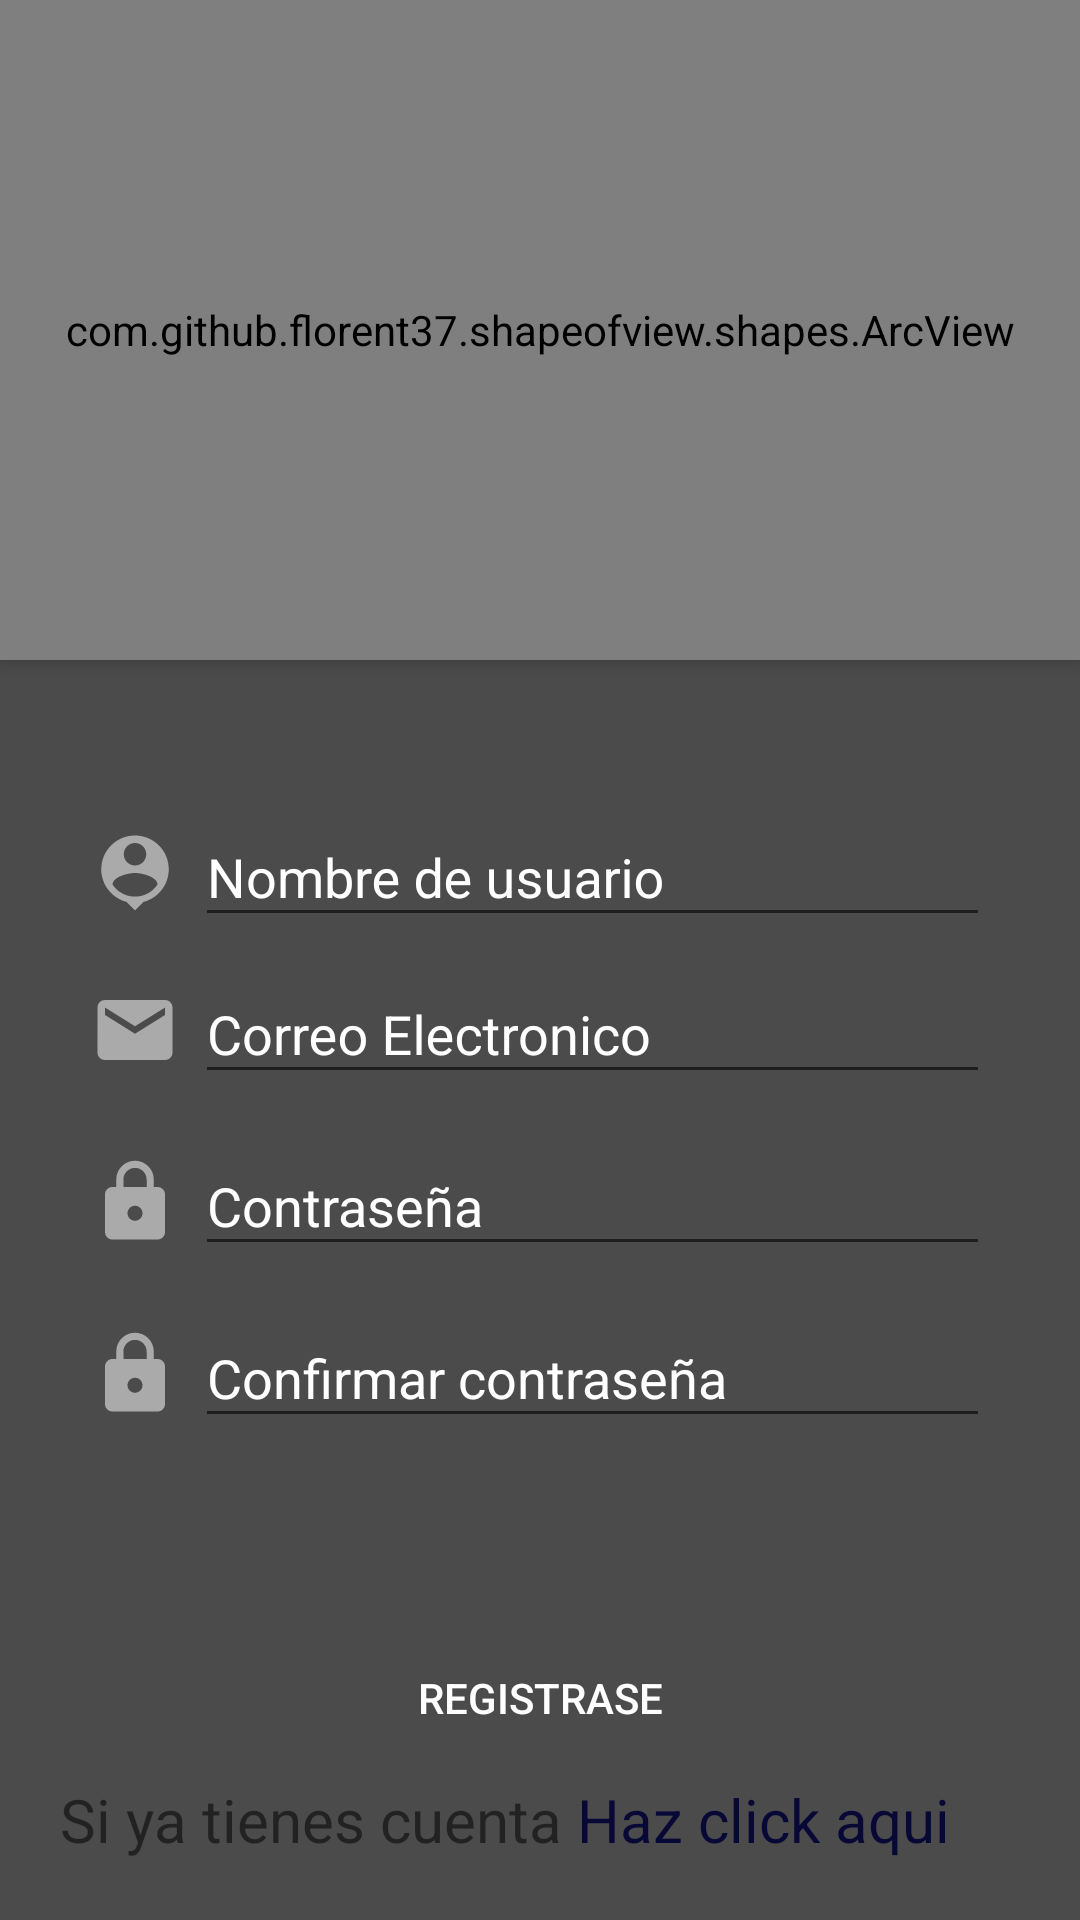

Screen size 1080w x 1920h. Icon name, then its center in pixels as point (x, y):
emailgray: point (135, 1030)
passwordgray: point (135, 1200), point (135, 1372)
person pin: point (135, 872)
